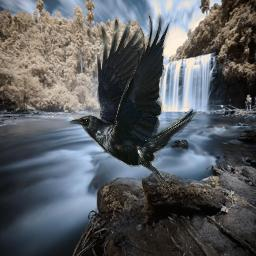Crow: (68, 11, 197, 196)
